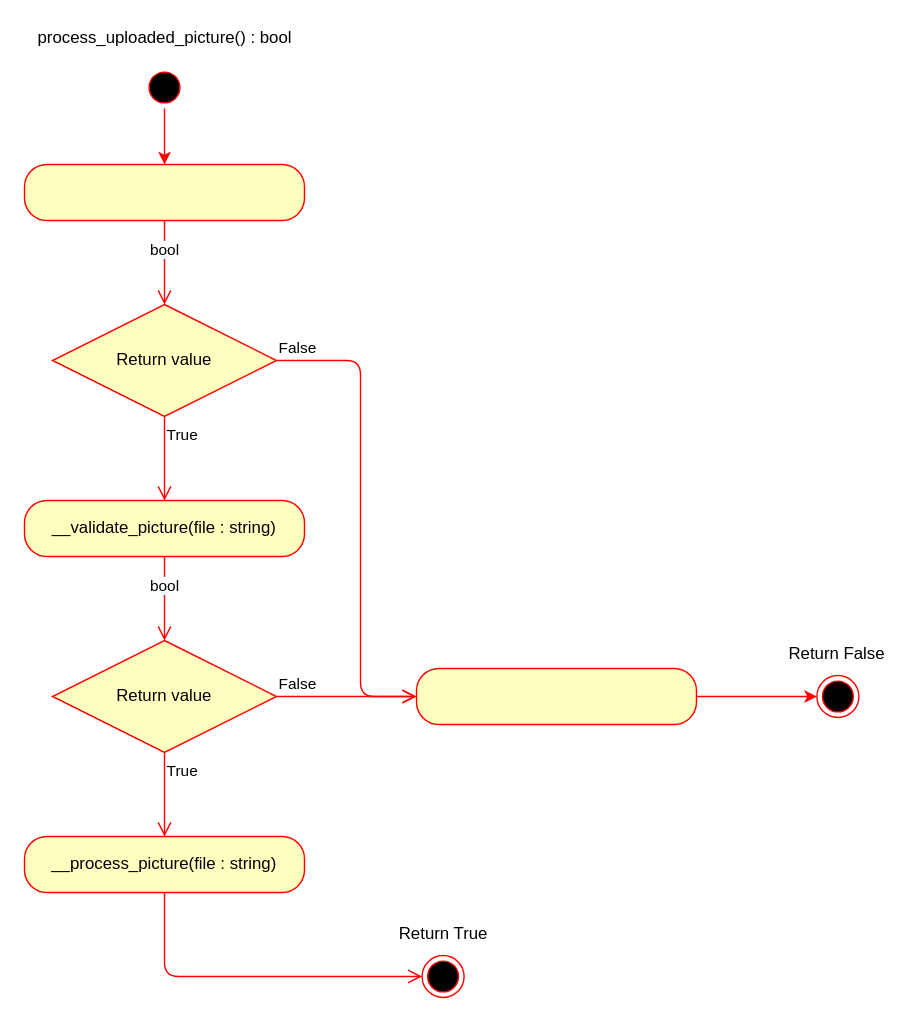
This 917x1022 diagram has some shape labels left out. The shapes that lost their labels are listed below. From the top down, each one's centre as x and y in pixels, then its label:
(163,191): __upload_picture()
(555,695): __delete_picture(file : string)
